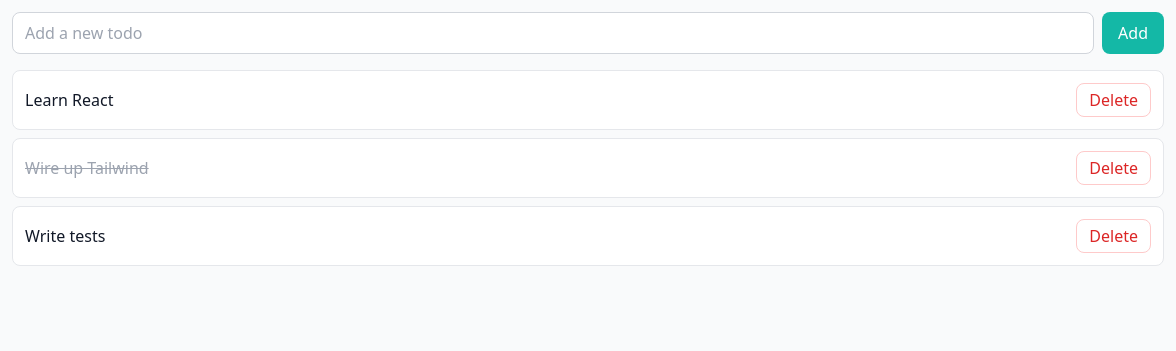
Test: TodoList implementation tests › adds a new todo (and clears input)
Type "Study Jest" into the field with placeholder "Add a new todo" at (553, 33), box [12,12,1094,54]
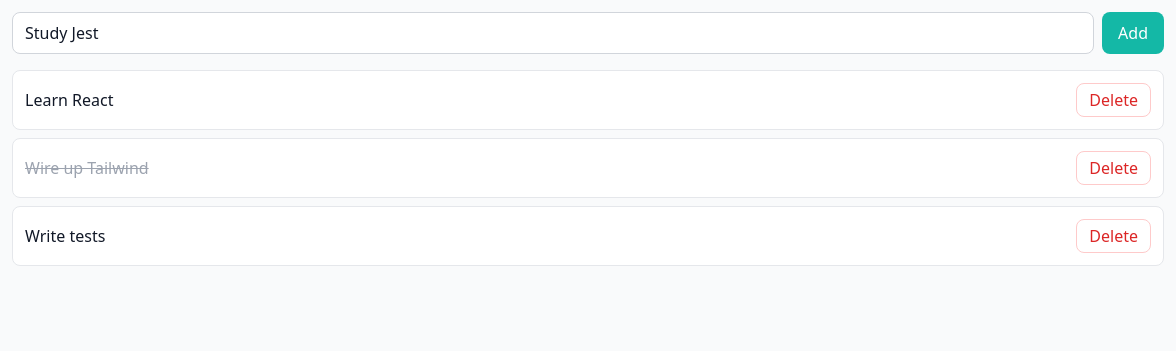
Click the button "Add" at (1133, 33), box [1102,12,1164,54]
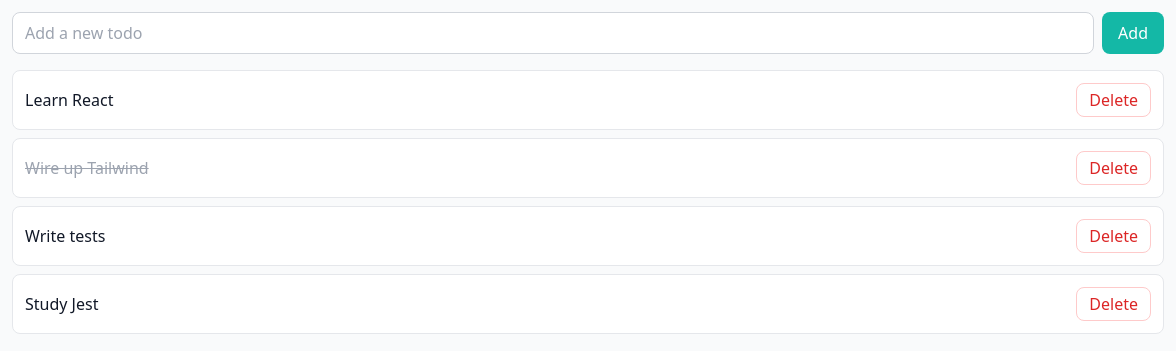
Now the button with aria-label "toggle-Study Jest" is shown, box [25,292,1064,316]
Now the field with placeholder "Add a new todo" is empty, box [12,12,1094,54]
